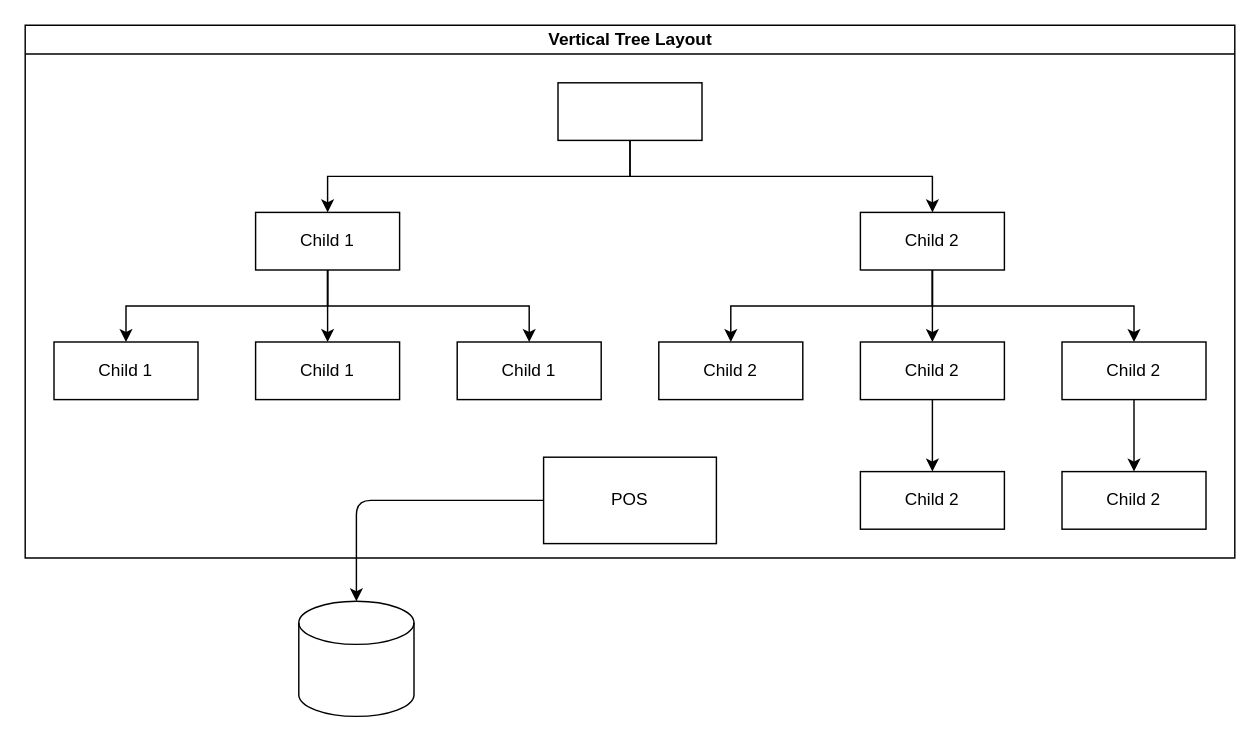
This 1260x742 diagram has some shape labels left out. Each missing label, with the centre of its shape:
"couchbase" belongs at (x=355, y=658).
"Root" belongs at (x=629, y=110).
